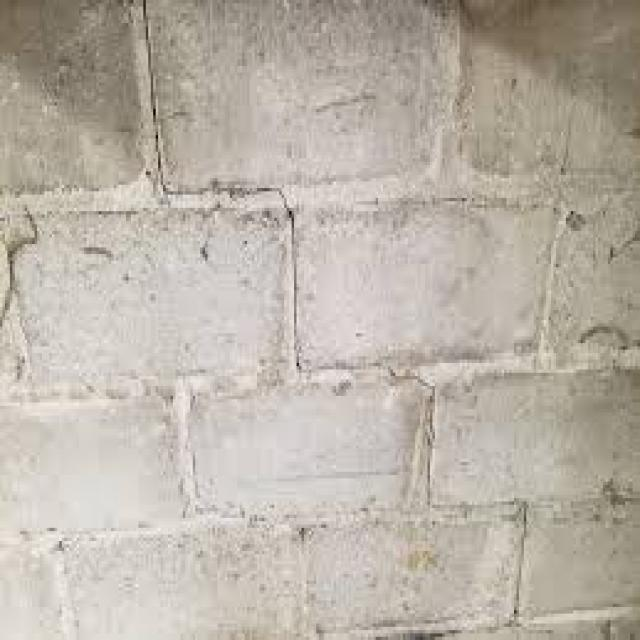Crack: (136, 0, 529, 627)
